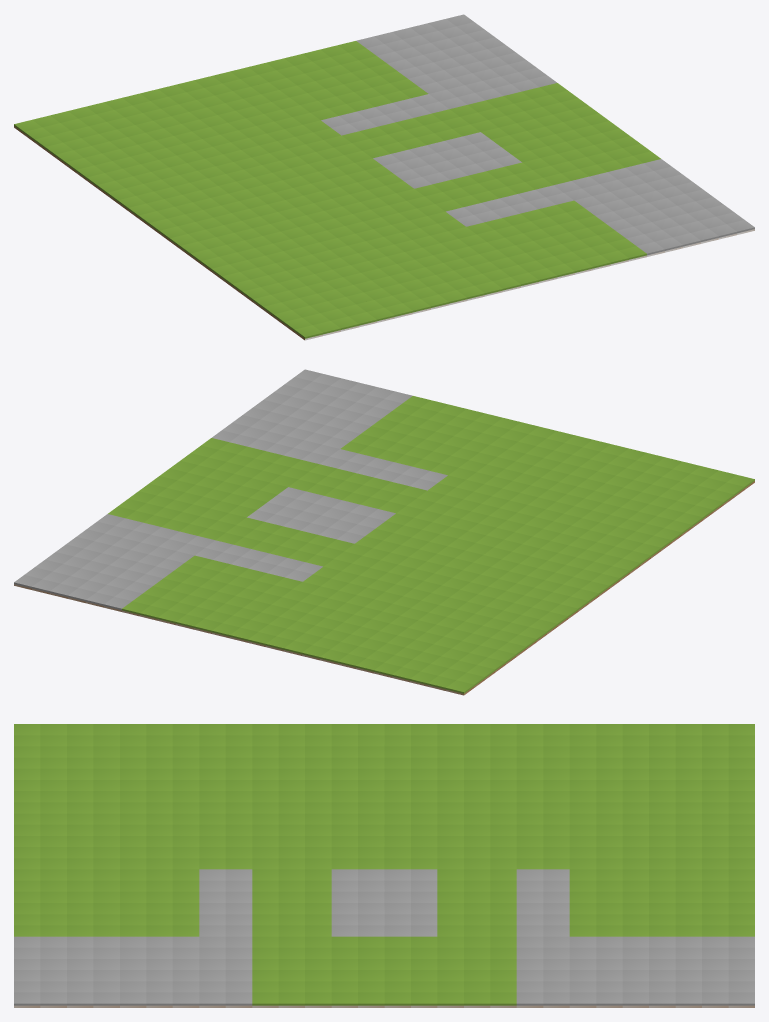
File: plane block.fbx
The picture shows the model from 3 angles, top to bottom: view 1: azimuth 30°, elevation 25°; view 2: azimuth 150°, elevation 25°; view 3: azimuth 270°, elevation 25°; orthographic projection. The views are drawn at different scales.
Bounding box in the file's own units: 3484 × 25.06 × 3902.
